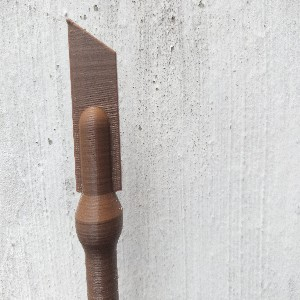cutter: (65, 18, 125, 300)
